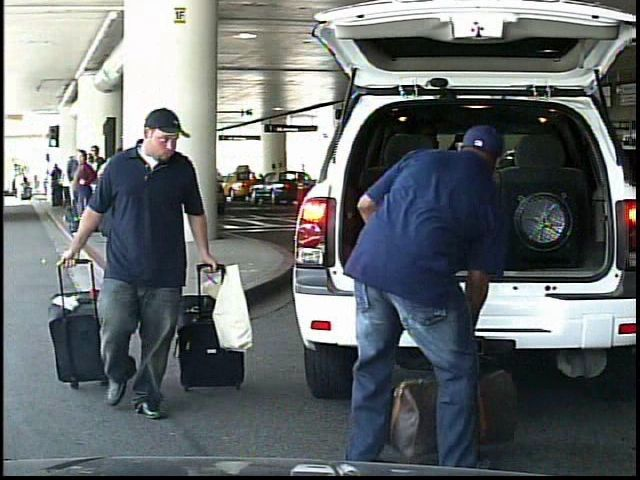person: (333, 109, 520, 476), (76, 110, 233, 430), (273, 162, 285, 195), (14, 170, 25, 201)
